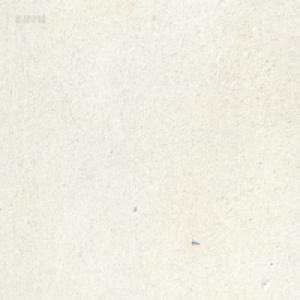Nail: (191, 239, 199, 245)
